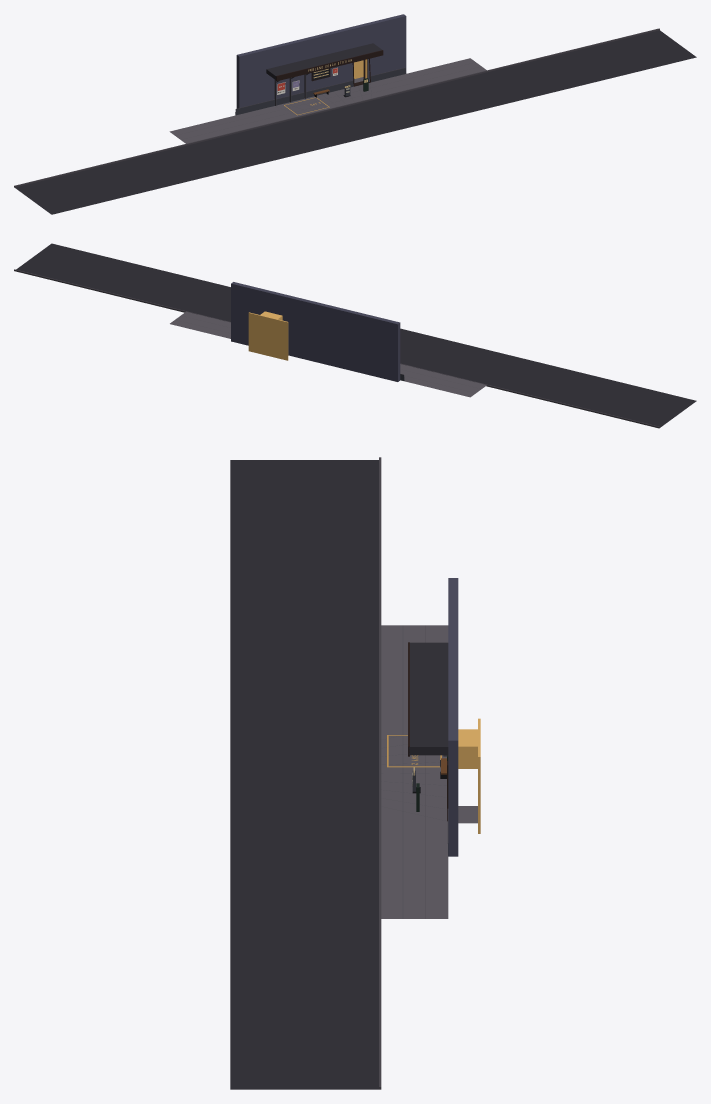
File: coach-station.glb
3 views of the same model, one above another, from view 1: azimuth 30°, elevation 25°; view 2: azimuth 150°, elevation 25°; view 3: azimuth 270°, elevation 25° (orthographic). The views are drawn at different scales.
Visible parts, largest first — view 1: forecourt, station, floor; view 2: forecourt, station, floor; view 3: forecourt, floor, station.
Part boxes in pixels (x1,y1,x2,y2): forecourt: (14, 28, 696, 214); station: (235, 14, 406, 115); floor: (169, 58, 486, 143); forecourt: (14, 243, 696, 428); station: (231, 282, 404, 381); floor: (170, 311, 486, 397); forecourt: (230, 457, 446, 1089); floor: (381, 625, 448, 918); station: (408, 578, 480, 856).
Bounding box in the file's own units: 60 × 5.26 × 10.08.
